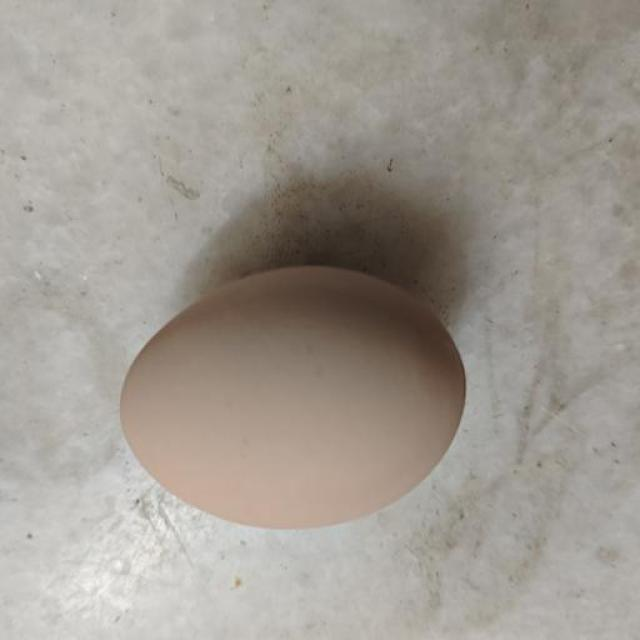organic: (122, 267, 464, 527)
